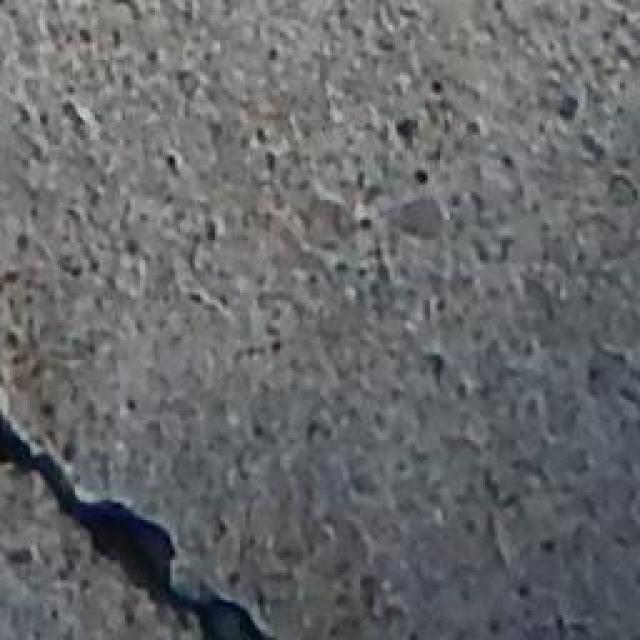concrete-crack: (0, 416, 278, 640)
